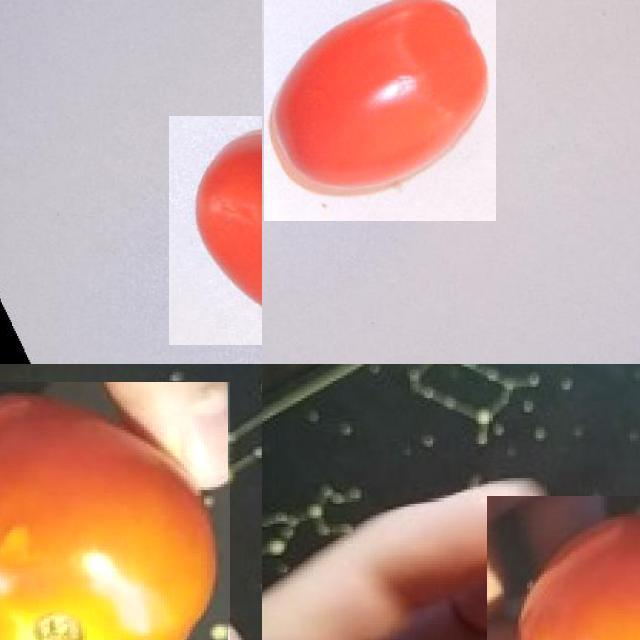Fresh Tomato: (0, 382, 230, 640), (263, 0, 496, 221), (487, 496, 640, 640), (169, 116, 262, 345)
